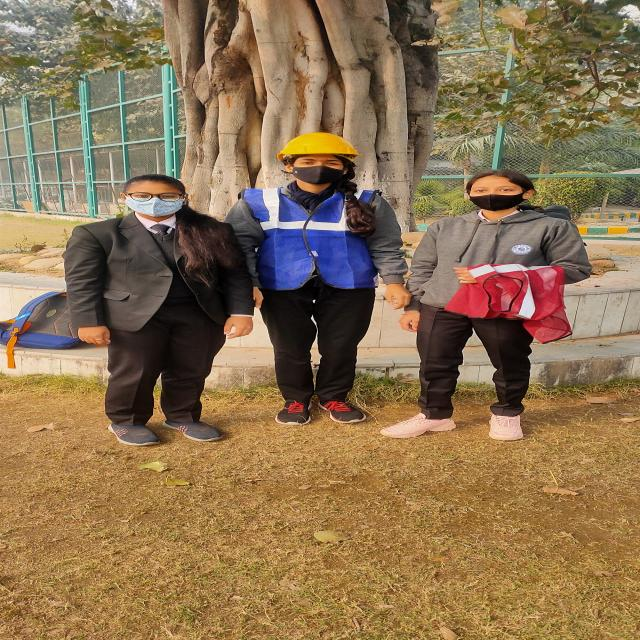safe: (241, 131, 404, 435)
unsafe: (61, 170, 233, 456), (398, 171, 587, 430)
